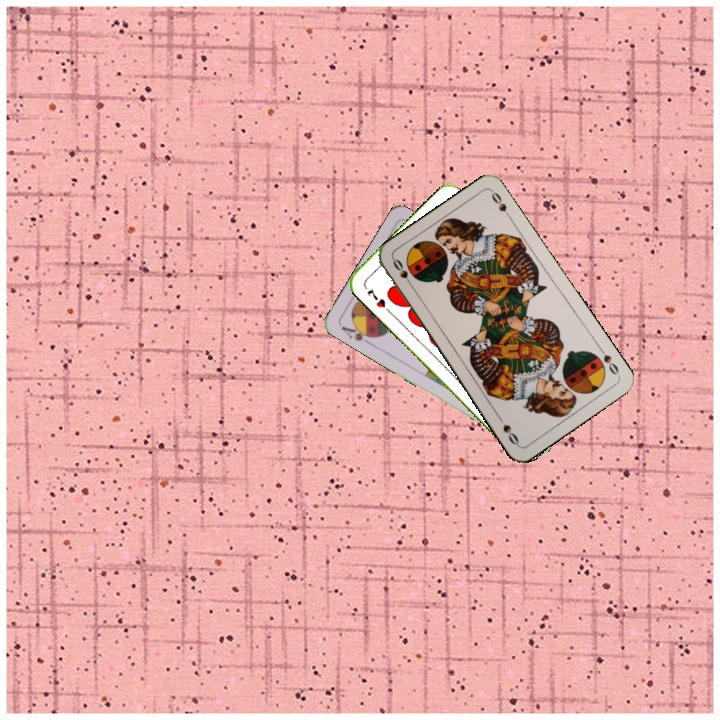H7: (363, 284, 388, 310)
SA: (337, 319, 377, 347)
SO: (389, 254, 417, 291), (595, 343, 622, 379)
